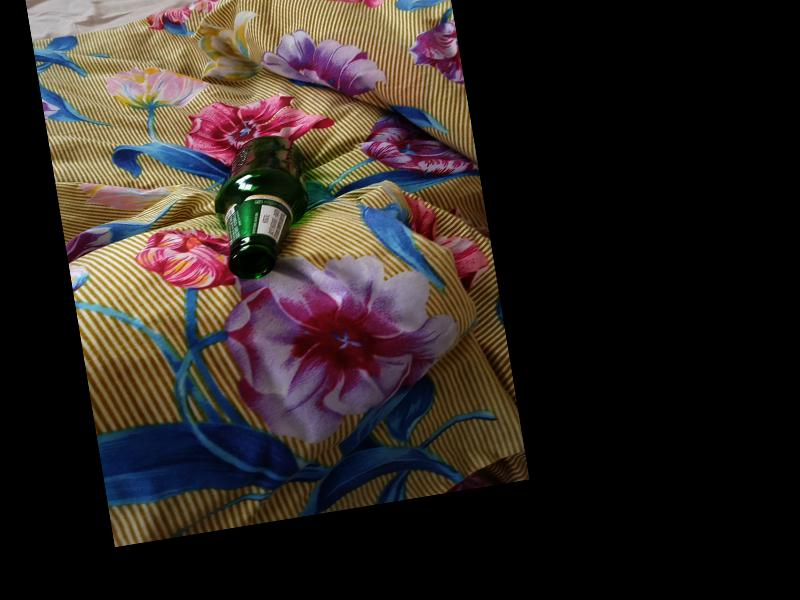Beer: (205, 132, 316, 283)
